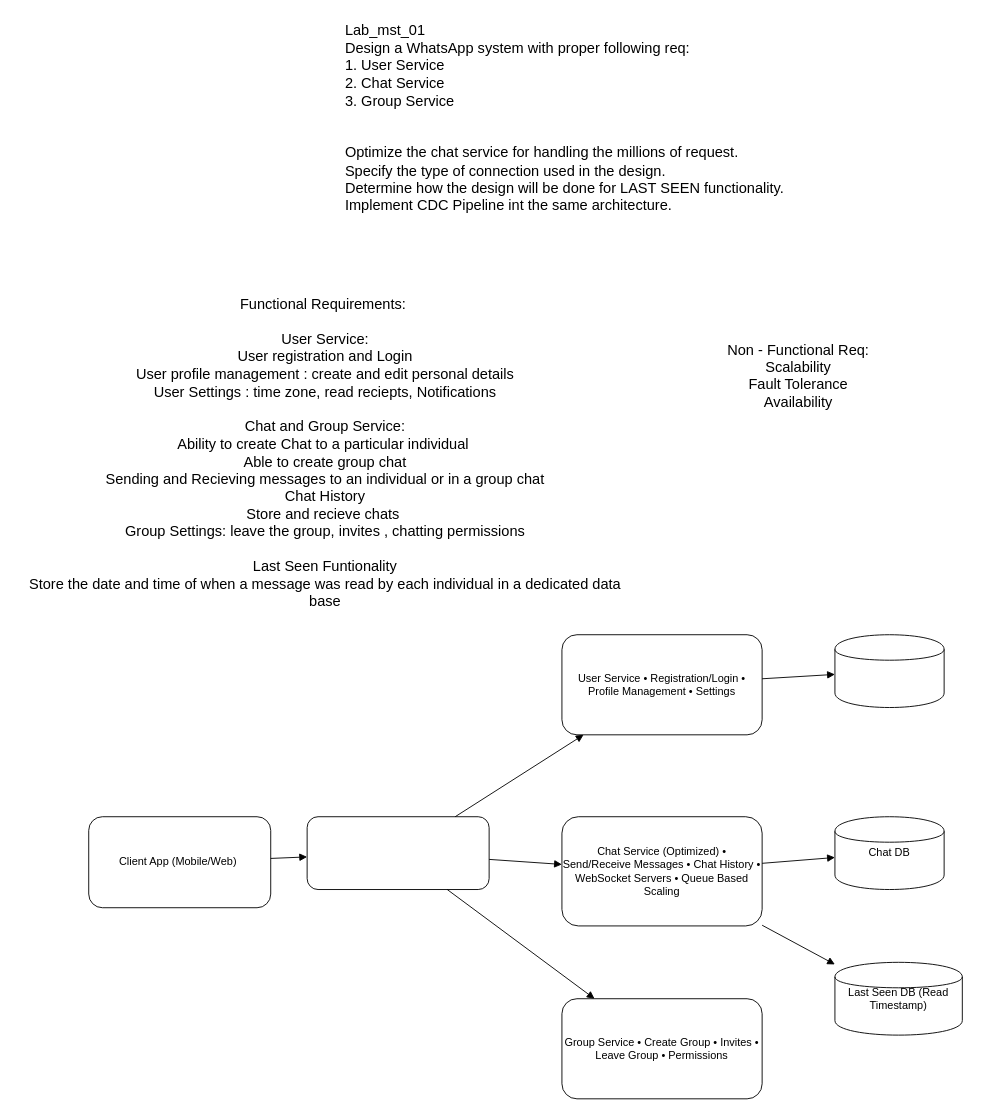
Some shapes in this 996 by 1115 pixel diagram are drawn without their labels. The box of each missing label's shape, as (x1, y1, x2, y2) in pixels:
API Gateway / Load Balancer: (306, 816, 489, 890)
User DB: (834, 634, 944, 708)
